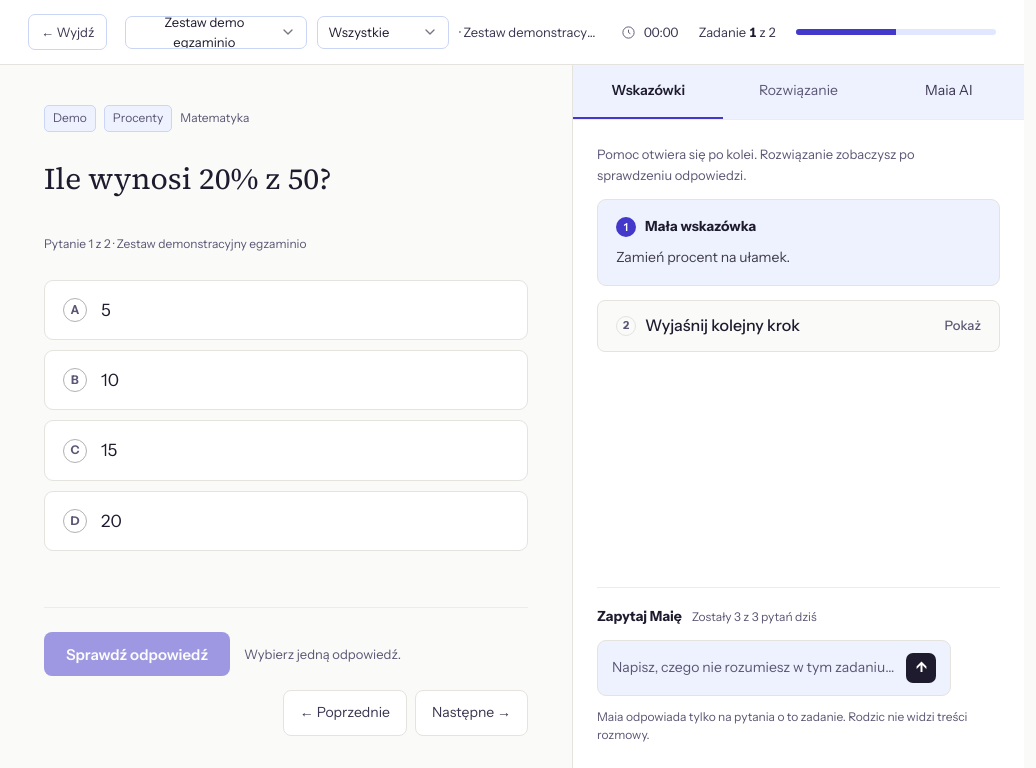
Test: StudentPractice focus mode › offers ready questions without consuming the daily AI limit
This screenshot has width=1036, height=768.
Click the tab "Maia AI".
click(949, 92)  # box [874,65,1024,119]
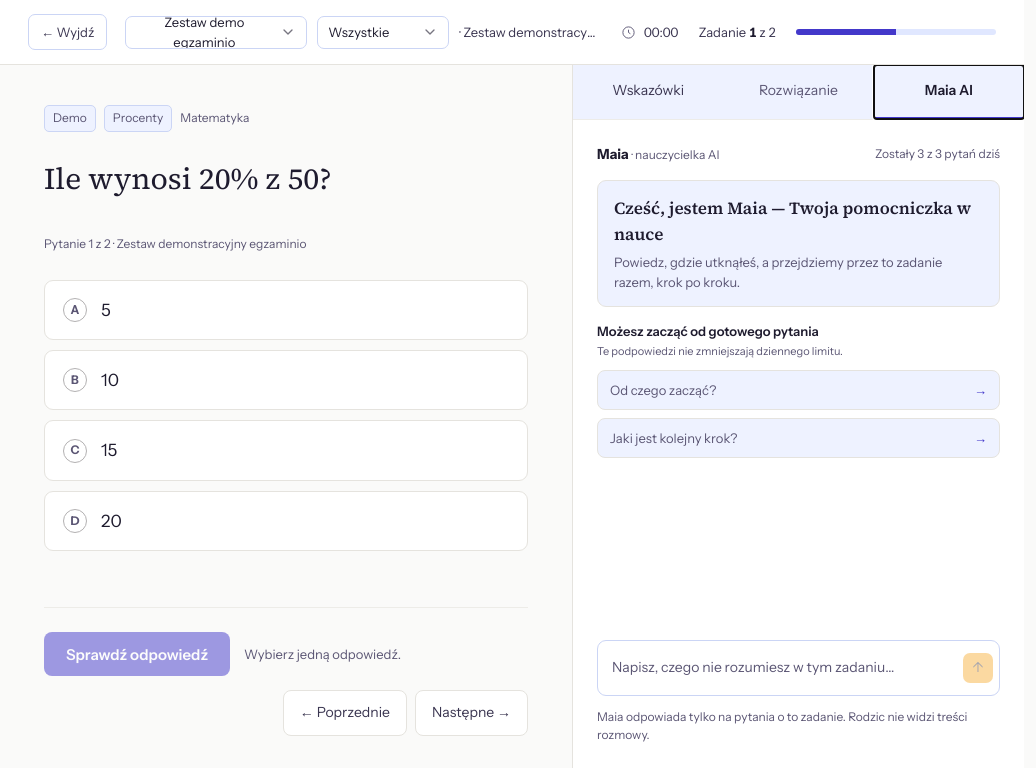
Expected: the text "Zostały 3 z 3 pytań dziś" is shown, [875,145,1000,164]
Click the button "Od czego zacząć? →".
click(663, 390)  # box [597,370,1000,410]
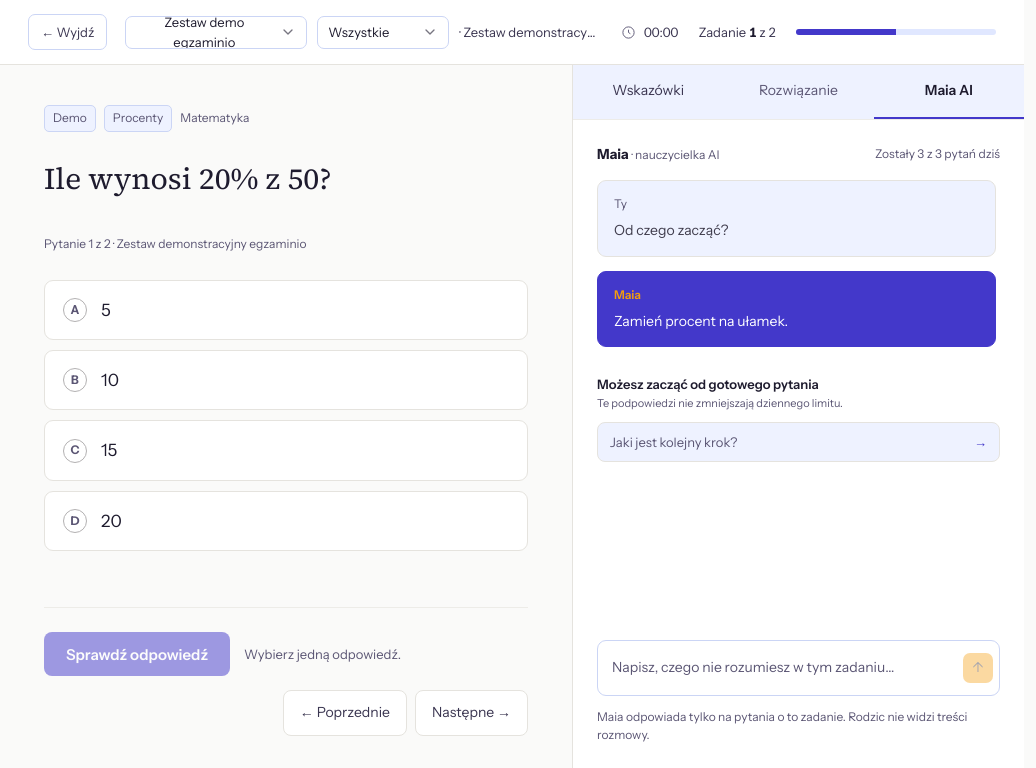
Expected: the text "Zostały 3 z 3 pytań dziś" is shown, [875,145,1000,164]
Expected: the text "Zamień procent na ułamek." is shown, [614,312,788,330]
